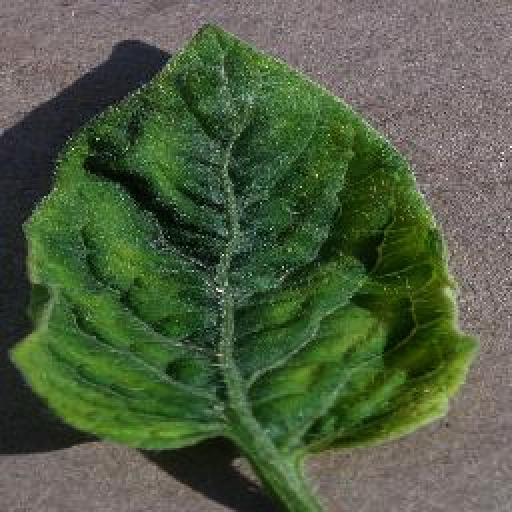disease_tomato: (11, 18, 488, 458)
